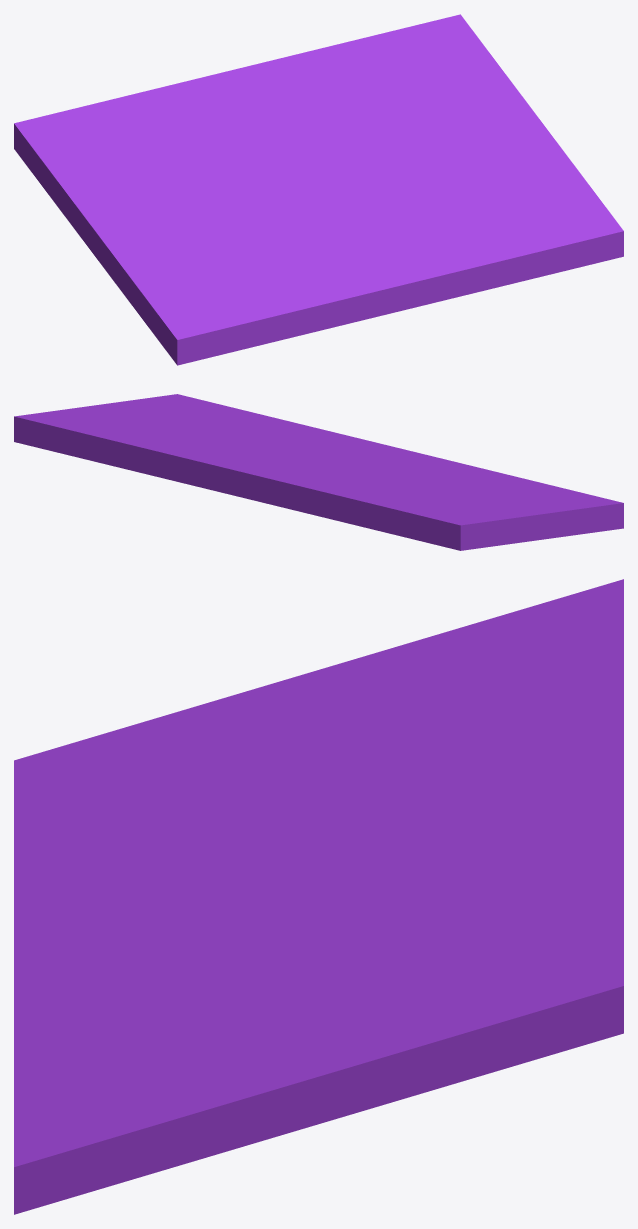
The model's file is Window_164.fbx.
3 views of the same model, one above another, from view 1: azimuth 30°, elevation 25°; view 2: azimuth 150°, elevation 25°; view 3: azimuth 270°, elevation 25° (orthographic). The views are drawn at different scales.
Parts seen in each view (by area): view 1: Window_164; view 2: Window_164; view 3: Window_164.
Boxes of the visible parts, x1,y1,x2,y2 form: Window_164: (14, 14, 623, 365); Window_164: (14, 394, 623, 550); Window_164: (14, 579, 623, 1214).
Size of the model in its own units: 1838 by 482 by 1165.
